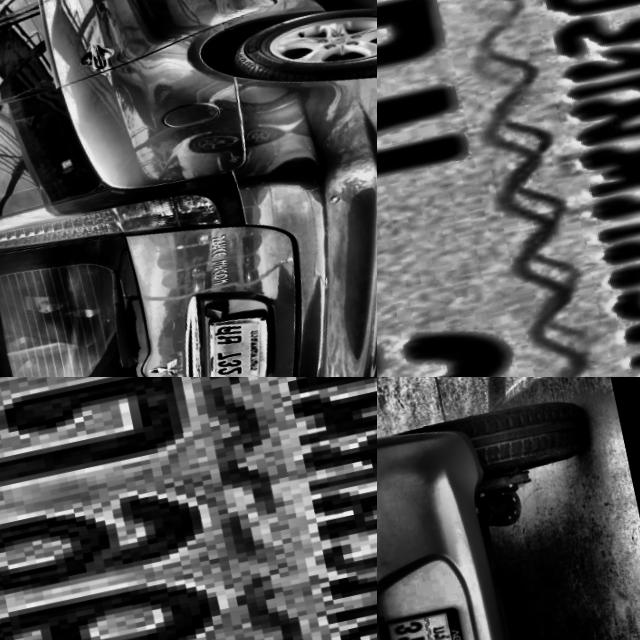license-plate: (377, 0, 640, 377), (0, 377, 377, 640), (187, 304, 287, 377), (377, 602, 481, 640)
